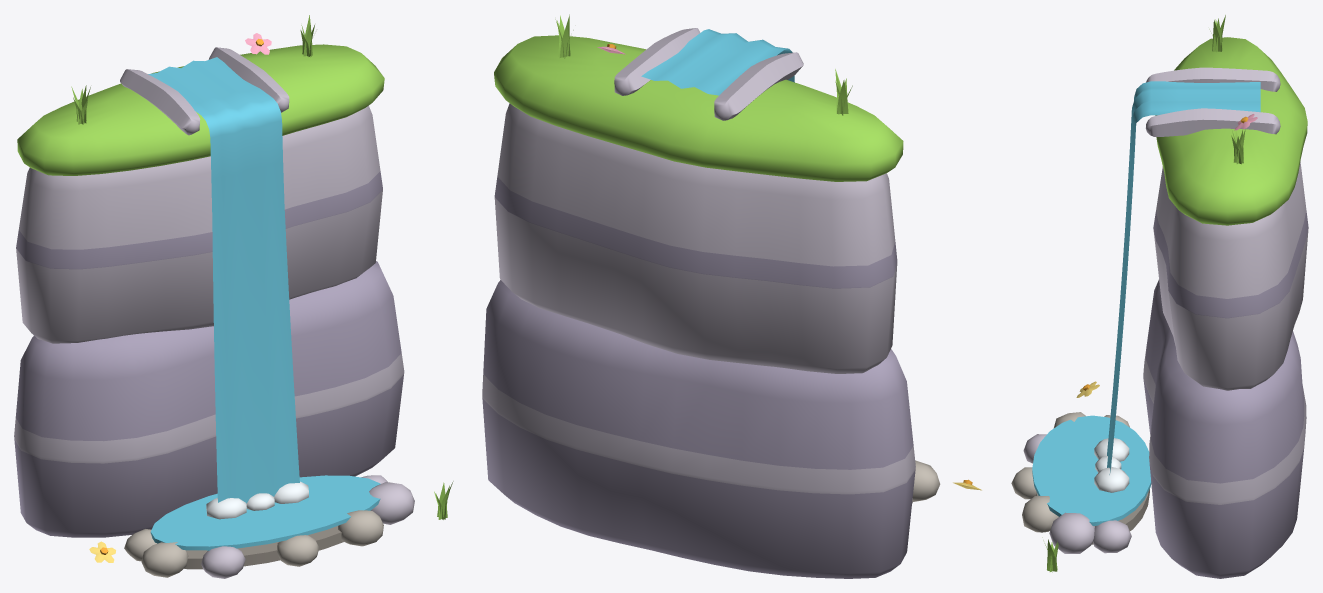
File: prop_waterfall.glb
3 views of the same model, side by side, from view 1: azimuth 30°, elevation 25°; view 2: azimuth 150°, elevation 25°; view 3: azimuth 270°, elevation 25° (orthographic). The views are drawn at different scales.
Visible parts, largest first — view 1: prop_waterfall, fall; view 2: prop_waterfall, fall; view 3: prop_waterfall, fall.
Part boxes in pixels (<box>): prop_waterfall: <box>14,15,453,578</box>; fall: <box>148,57,299,508</box>; prop_waterfall: <box>482,14,981,578</box>; fall: <box>641,29,794,95</box>; prop_waterfall: <box>1011,15,1308,578</box>; fall: <box>1107,81,1260,474</box>.
Bounding box in the file's own units: 2.91 × 3.28 × 2.07.
